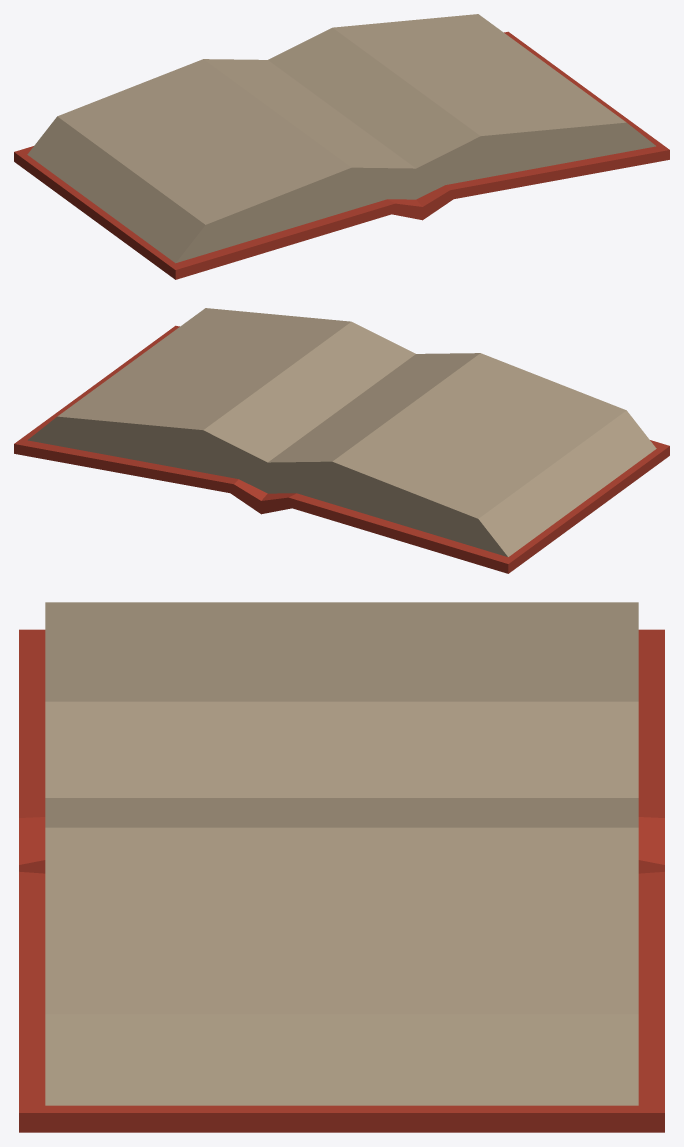
File: kingdom_SM_Item_Book_05.gltf
3 views of the same model, one above another, from view 1: azimuth 30°, elevation 25°; view 2: azimuth 150°, elevation 25°; view 3: azimuth 270°, elevation 25° (orthographic). The views are drawn at different scales.
Visible parts, largest first — view 1: SM_Item_Book_05; view 2: SM_Item_Book_05; view 3: SM_Item_Book_05.
Part boxes in pixels (x1,y1,x2,y2): SM_Item_Book_05: (14, 14, 669, 279); SM_Item_Book_05: (14, 308, 669, 573); SM_Item_Book_05: (19, 602, 664, 1132).
Bounding box in the file's own units: 0.5097 × 0.0626 × 0.2884.
1 material, 1 textured.
